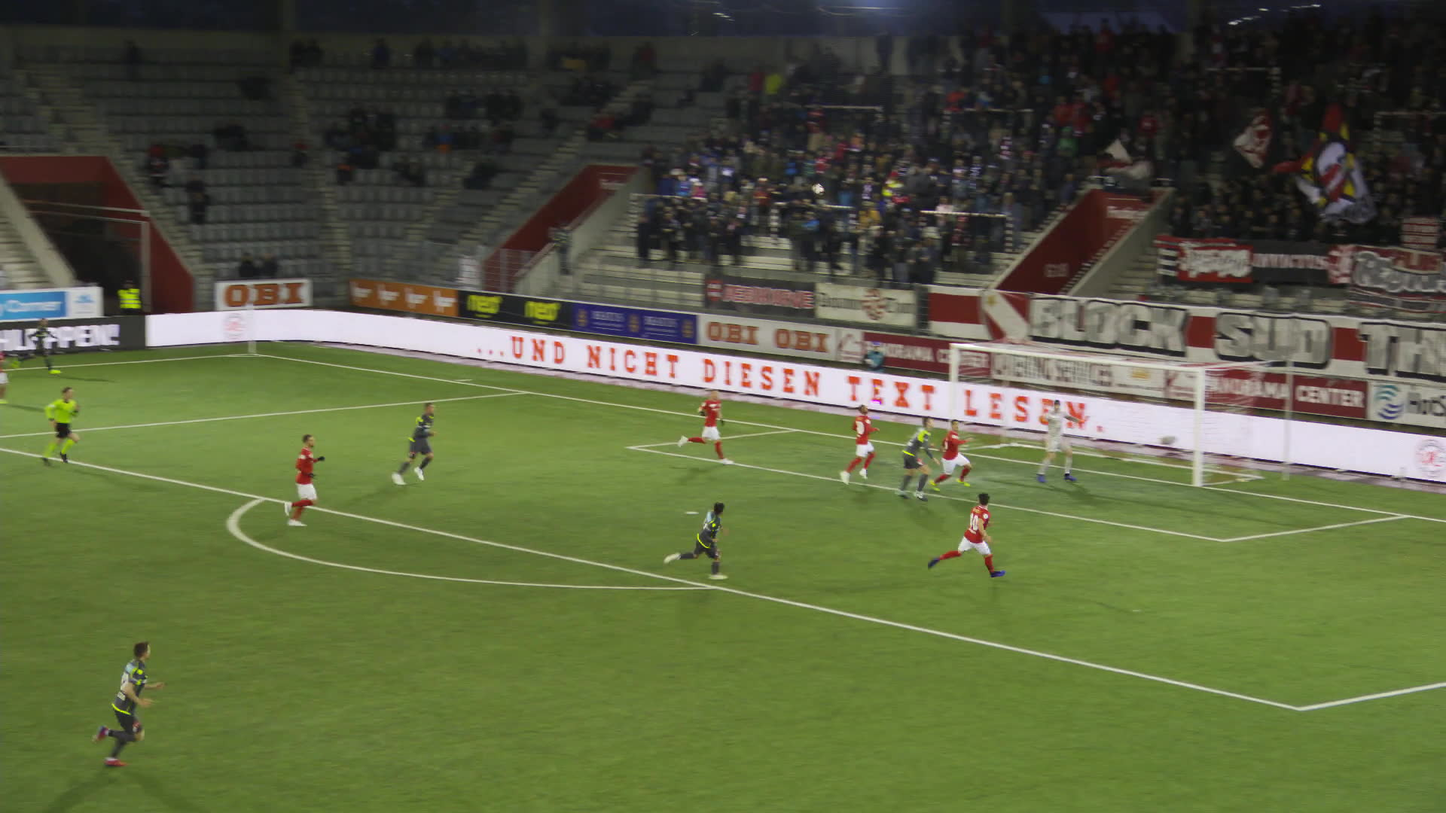ball: (812, 183, 824, 193)
player: (81, 639, 166, 767), (928, 493, 1002, 583), (660, 501, 737, 582), (282, 434, 340, 528), (684, 383, 741, 464), (1036, 398, 1088, 483), (401, 402, 446, 490), (904, 418, 948, 501), (847, 406, 887, 486), (938, 421, 978, 492), (23, 318, 69, 376), (0, 343, 9, 406)
referee: (53, 386, 91, 467)
